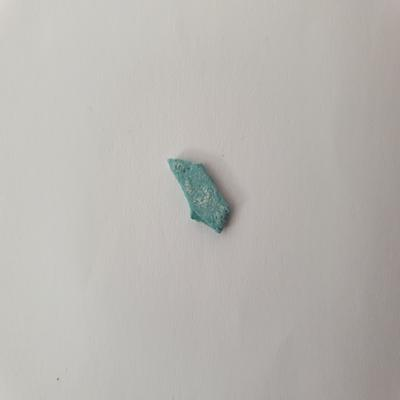plastic: (163, 152, 238, 238)
